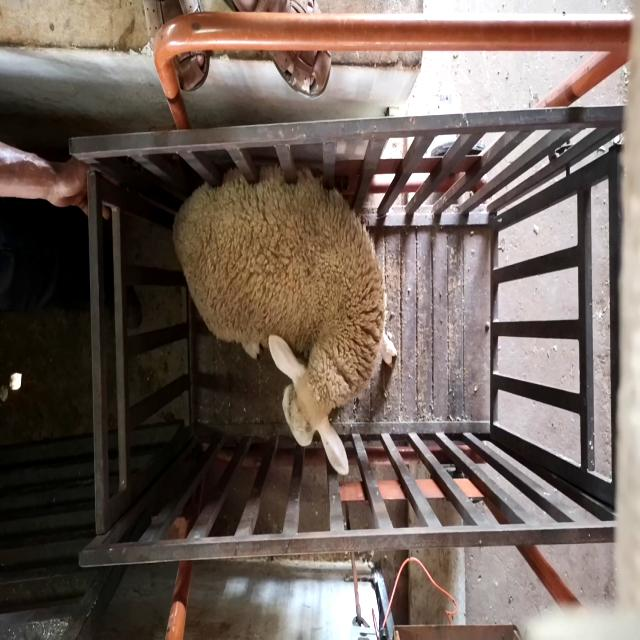sheep: (171, 165, 396, 474)
